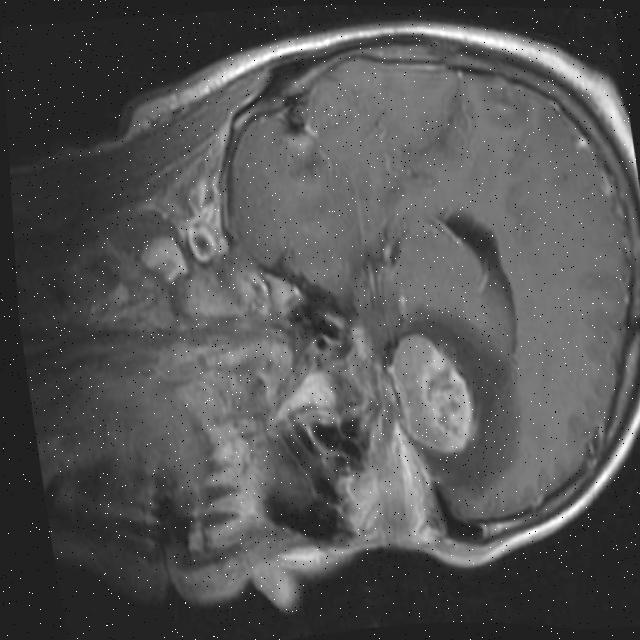Meningioma: (383, 329, 483, 460)
